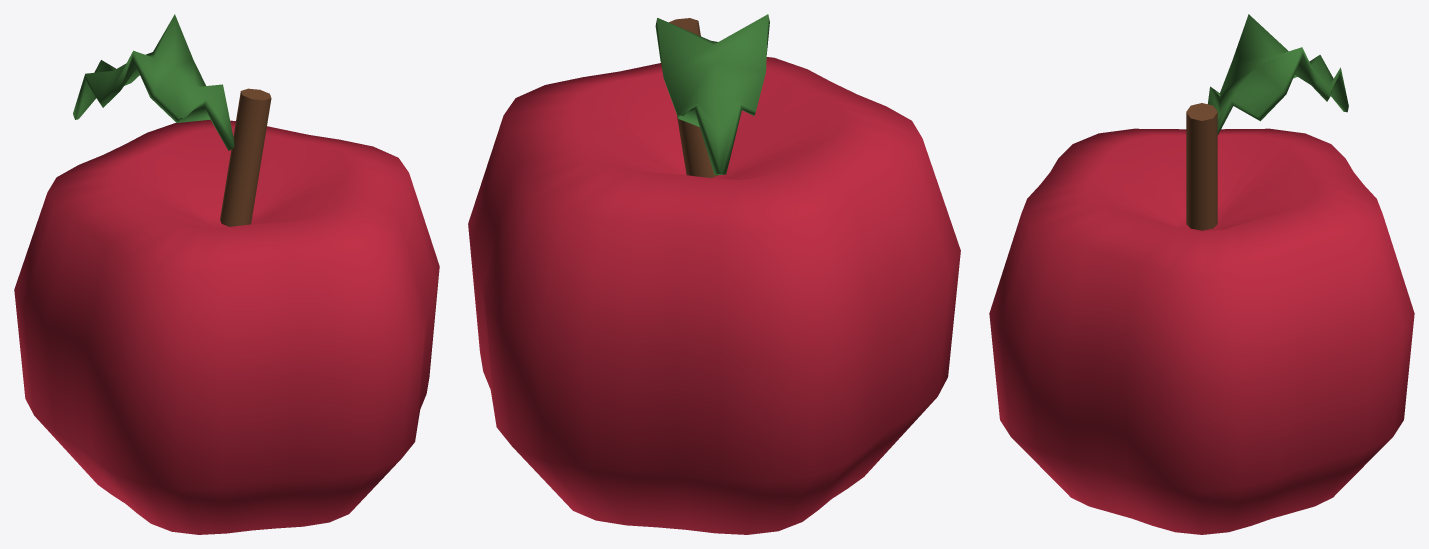
File: red-apple.glb
3 renders of one model, left to right at view 1: azimuth 30°, elevation 25°; view 2: azimuth 150°, elevation 25°; view 3: azimuth 270°, elevation 25°, orthographic. The views are drawn at different scales.
Parts seen in each view (by area): view 1: edible_apple, edible_leaf, edible_stem; view 2: edible_apple, edible_leaf, edible_stem; view 3: edible_apple, edible_leaf, edible_stem.
Boxes of the visible parts, box(x1,y1,x2,y2) form: edible_apple: box(14, 119, 439, 534); edible_leaf: box(73, 14, 234, 150); edible_stem: box(220, 88, 271, 226); edible_apple: box(468, 57, 960, 534); edible_leaf: box(655, 14, 769, 174); edible_stem: box(669, 18, 718, 178); edible_apple: box(989, 128, 1414, 534); edible_leaf: box(1208, 14, 1348, 135); edible_stem: box(1186, 103, 1217, 230).
Bounding box in the file's own units: 0.1046 × 0.123 × 0.1075.
